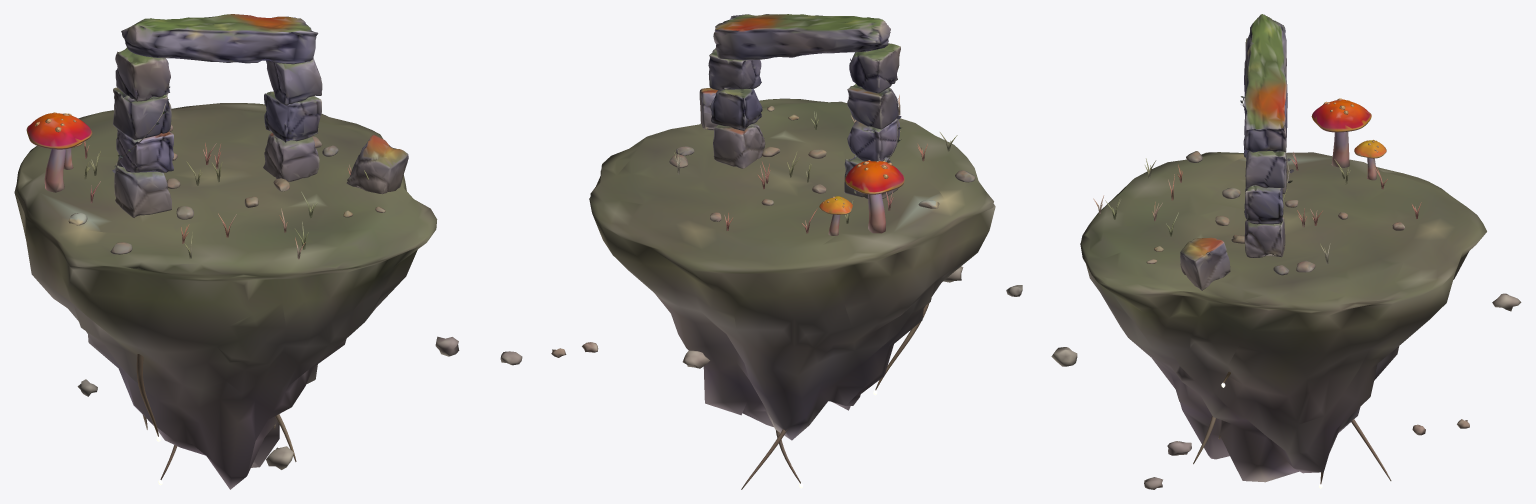
File: ucan_harabe.glb
3 views of the same model, side by side, from view 1: azimuth 30°, elevation 25°; view 2: azimuth 150°, elevation 25°; view 3: azimuth 270°, elevation 25° (orthographic). The views are drawn at different scales.
Parts seen in each view (by area): view 1: ucan_harabe_LOD0; view 2: ucan_harabe_LOD0; view 3: ucan_harabe_LOD0.
Part boxes in pixels (x1=…): ucan_harabe_LOD0: x1=14, y1=14, x2=522, y2=489; ucan_harabe_LOD0: x1=551, y1=14, x2=1022, y2=489; ucan_harabe_LOD0: x1=1051, y1=14, x2=1521, y2=489.
Size of what is drawn, in the model's own units: 7.12 by 7.94 by 7.51.
